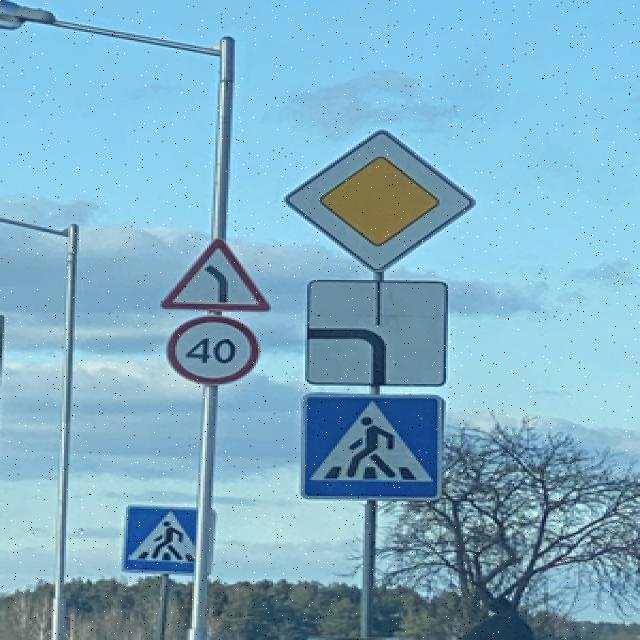Speedlimit: (164, 314, 262, 387)
